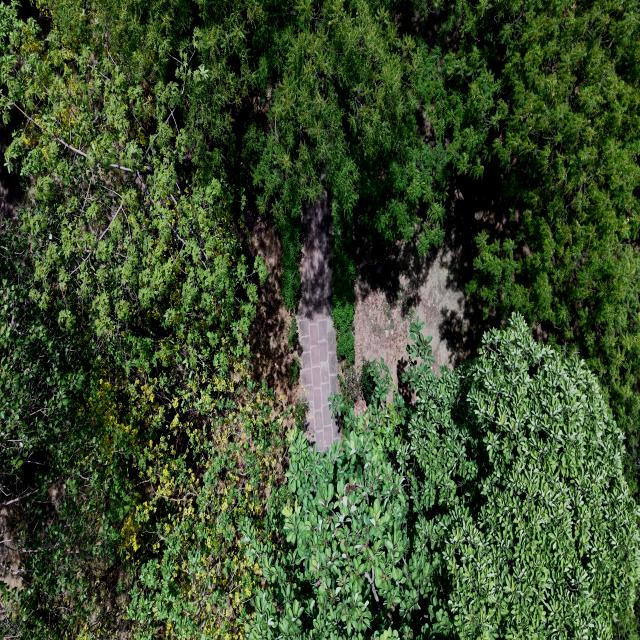DRY_AREA: (354, 164, 518, 388), (354, 165, 517, 388), (353, 168, 516, 389), (354, 166, 515, 383), (239, 189, 338, 450), (244, 189, 338, 449), (354, 237, 462, 385), (354, 242, 462, 386), (233, 202, 297, 405), (236, 204, 298, 406), (296, 189, 338, 449), (248, 218, 296, 404), (297, 314, 338, 450), (297, 188, 332, 319), (0, 498, 24, 588), (0, 502, 23, 588), (0, 162, 23, 231)
PATHWAYS: (297, 189, 339, 450)
VEGETATION_TREE: (0, 0, 639, 639), (0, 2, 285, 639), (244, 1, 639, 357), (249, 314, 639, 639), (244, 1, 493, 357), (467, 1, 639, 492)
